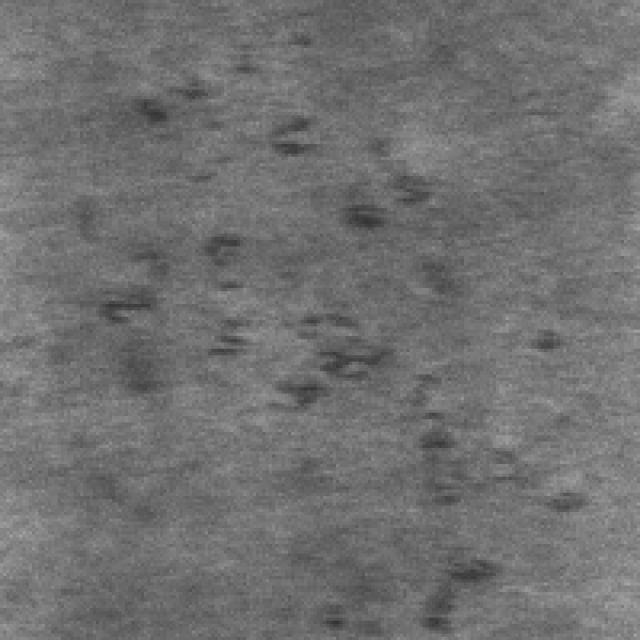rolled-in_scale: (109, 240, 496, 627), (125, 54, 419, 228)
